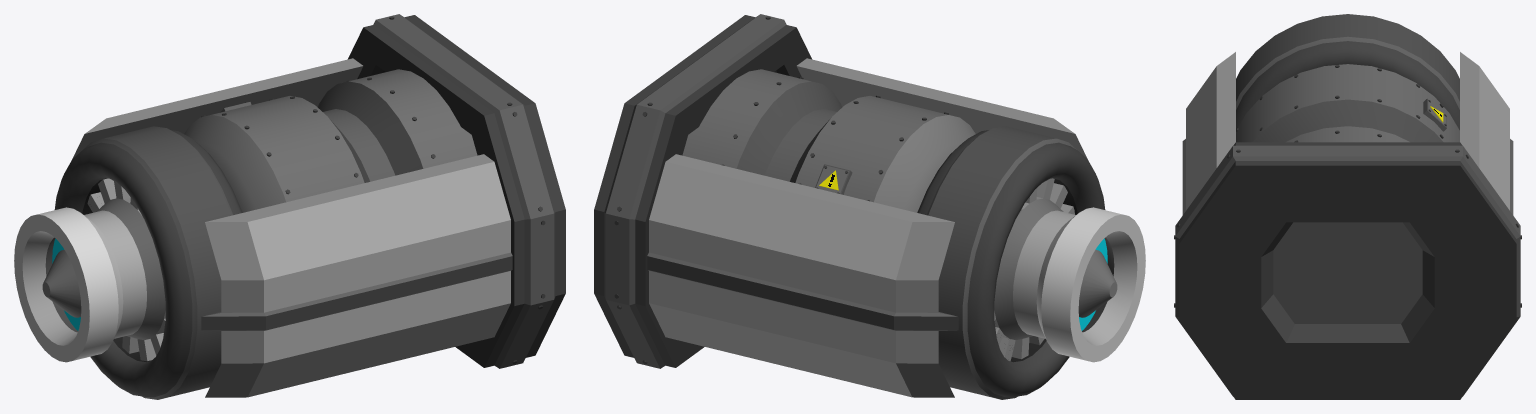
The model's file is Engine.fbx.
3 views of the same model, side by side, from view 1: azimuth 30°, elevation 25°; view 2: azimuth 150°, elevation 25°; view 3: azimuth 270°, elevation 25° (orthographic). The views are drawn at different scales.
Parts seen in each view (by area): view 1: Body; view 2: Body; view 3: Body.
Part boxes in pixels (bbox=[...]): Body: bbox=[14, 14, 565, 399]; Body: bbox=[594, 14, 1145, 399]; Body: bbox=[1174, 14, 1521, 399].
Size of what is drawn, in the model's own units: 5.87 by 3.42 by 4.44.
Materials: 3 (3 with a texture image).
